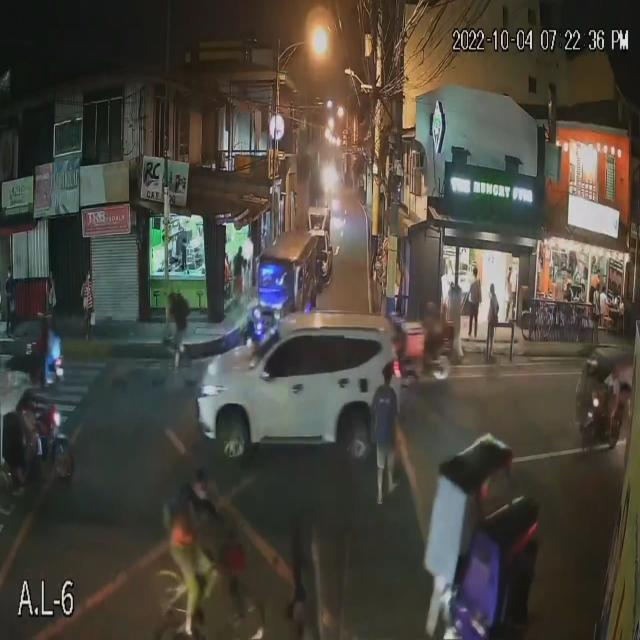Not-Wearing-Helmet: (190, 468, 210, 500)
